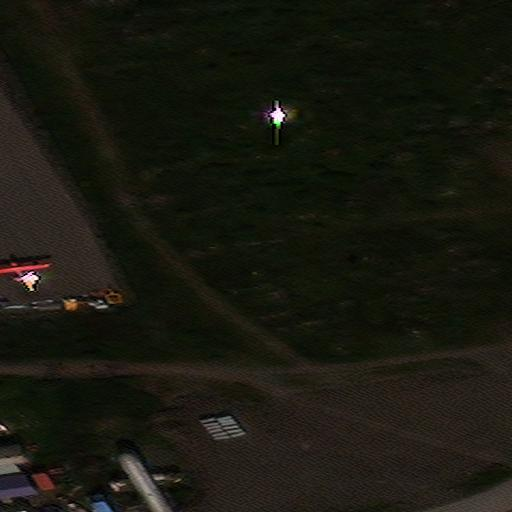Small Civil Transport: (0, 260, 50, 289)
